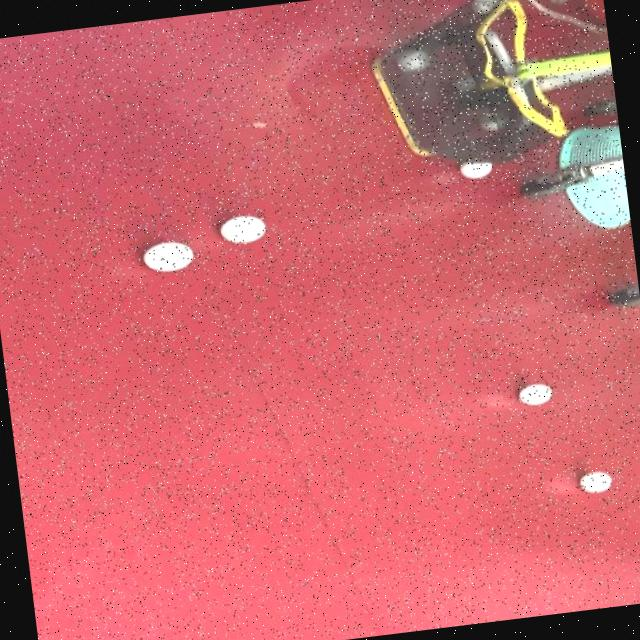ping-pong-ball: (137, 234, 196, 274), (213, 209, 269, 246), (513, 377, 556, 408), (574, 464, 616, 495), (453, 153, 496, 181)
